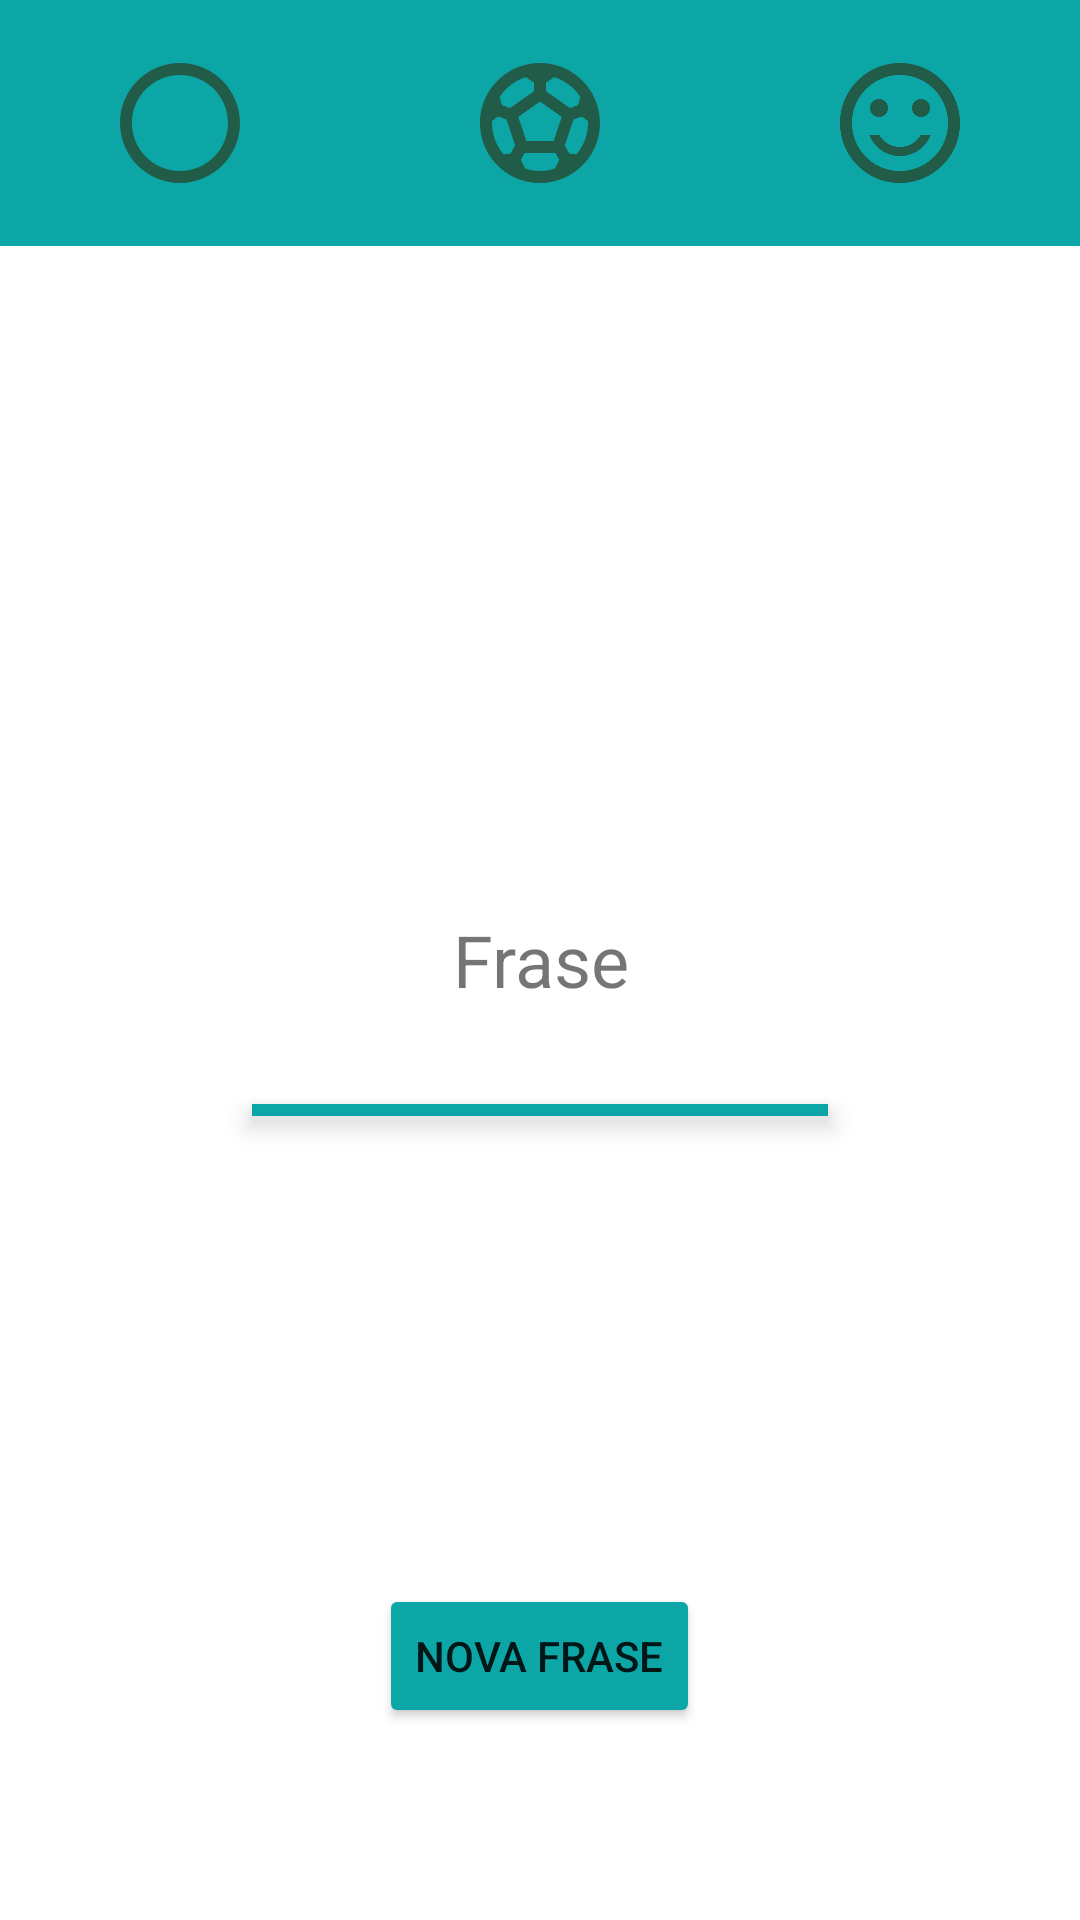

Icons on this 1080×1920 Android screen, each with the point to tap as (x,y):
carinhafeliz: (900,123)
fut: (540,123)
